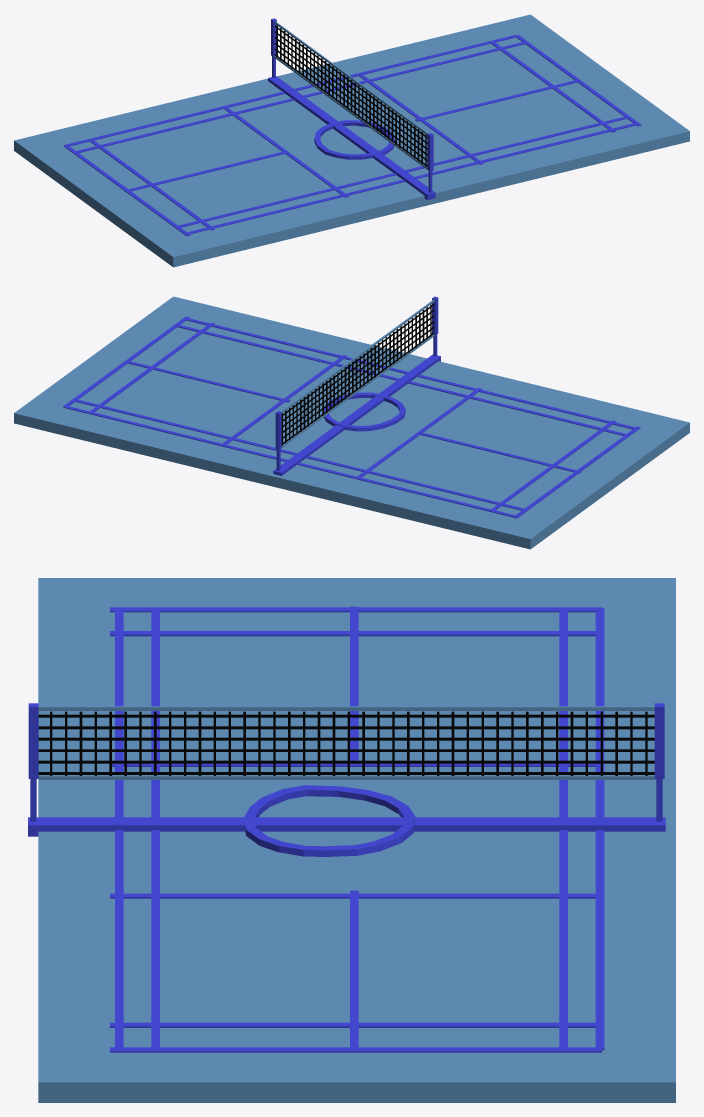
Rendered from badmintoncourt.fbx.
The picture shows the model from 3 angles, top to bottom: view 1: azimuth 30°, elevation 25°; view 2: azimuth 150°, elevation 25°; view 3: azimuth 270°, elevation 25°; orthographic projection. The views are drawn at different scales.
Parts seen in each view (by area): view 1: model, model.002, model.001, model.007, model.018, model.017, model.015, model.016, model.006, model.009, model.010, model.014 (+7 smaller); view 2: model, model.002, model.001, model.007, model.015, model.016, model.017, model.018, model.006, model.009, model.010, model.014 (+7 smaller); view 3: model, model.001, model.007, model.002, model.006, model.015, model.018, model.016, model.017, model.005, model.008, model.014 (+9 smaller).
Boxes of the visible parts, x1,y1,x2,y2 form: model: [14, 14, 689, 267]; model.002: [276, 25, 426, 166]; model.001: [274, 25, 427, 166]; model.007: [268, 76, 435, 199]; model.018: [187, 123, 637, 234]; model.017: [178, 116, 628, 227]; model.015: [64, 35, 517, 146]; model.016: [76, 41, 526, 152]; model.006: [314, 120, 395, 159]; model.009: [64, 145, 190, 236]; model.010: [88, 139, 214, 230]; model.014: [516, 34, 641, 126]; model: [14, 296, 689, 549]; model.002: [281, 304, 431, 445]; model.001: [281, 304, 434, 444]; model.007: [273, 354, 440, 475]; model.015: [64, 406, 516, 518]; model.016: [74, 399, 524, 510]; model.017: [176, 324, 625, 435]; model.018: [185, 318, 635, 429]; model.006: [324, 392, 405, 431]; model.009: [514, 426, 640, 517]; model.010: [490, 420, 616, 511]; model.014: [63, 316, 189, 407]; model: [38, 578, 675, 1102]; model.001: [38, 714, 654, 774]; model.007: [28, 817, 665, 836]; model.002: [50, 711, 647, 775]; model.006: [243, 785, 415, 856]; model.015: [595, 608, 604, 1050]; model.018: [115, 611, 123, 1048]; model.016: [559, 611, 567, 1048]; model.017: [151, 611, 159, 1048]; model.005: [38, 706, 654, 710]; model.008: [38, 775, 655, 779]; model.014: [110, 1047, 601, 1052].
Bounding box in the file's own units: 7185 × 952 × 3902.
